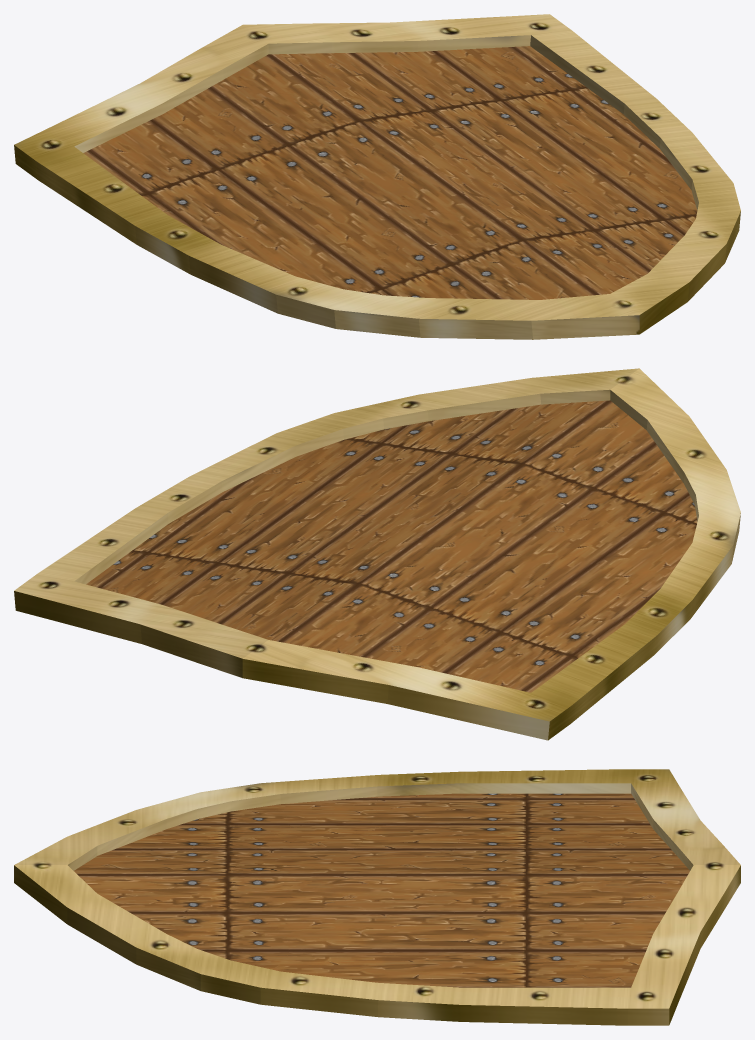
The model's file is Schild.fbx.
3 renders of one model, top to bottom at view 1: azimuth 30°, elevation 25°; view 2: azimuth 150°, elevation 25°; view 3: azimuth 270°, elevation 25°, orthographic. The views are drawn at different scales.
Visible parts, largest first — view 1: Fläche; view 2: Fläche; view 3: Fläche.
Part boxes in pixels (left/top/right/bottom): Fläche: left=14, top=14, right=740, bottom=339; Fläche: left=14, top=368, right=740, bottom=740; Fläche: left=14, top=769, right=740, bottom=1025.
Size of the model in its own units: 379 by 30.77 by 486.
1 material, 1 textured.
